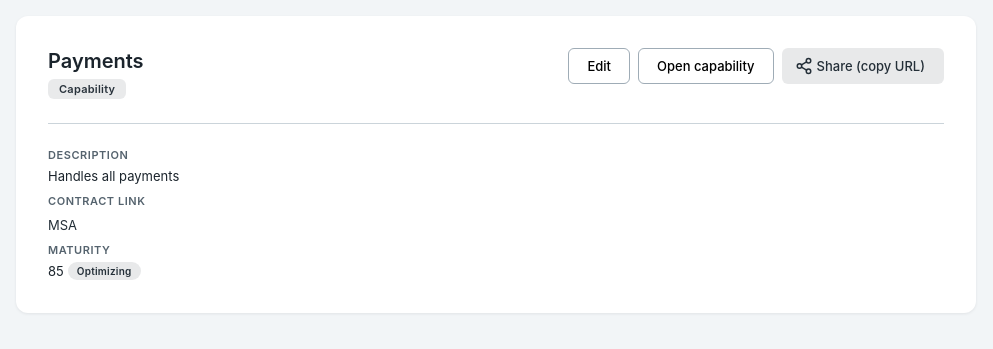
Test: OnePagerPage › renders active custom fields as editable inputs in their interleaved position, built-ins stay read-only
Click the button "Edit": (599, 66) [568, 48, 630, 84]
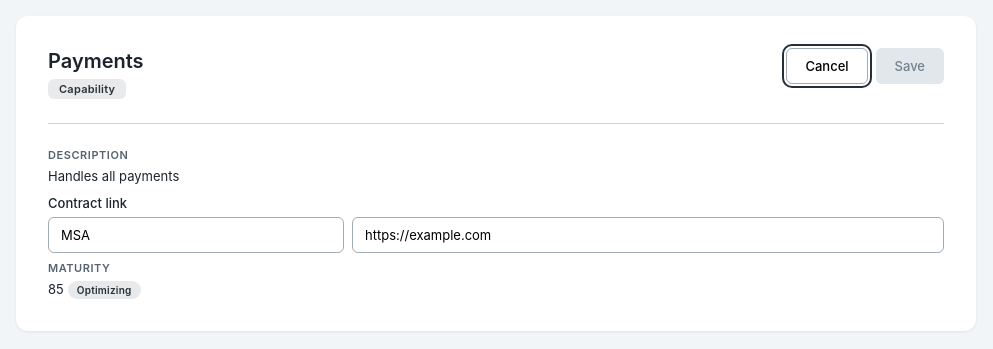
Check: the text "Handles all payments" is shown, box [48, 168, 179, 184]
Check: the field named "Contract link label" holds "MSA", box [48, 217, 344, 253]
Check: the field named "Contract link URL" holds "https://example.com", box [352, 217, 944, 253]
